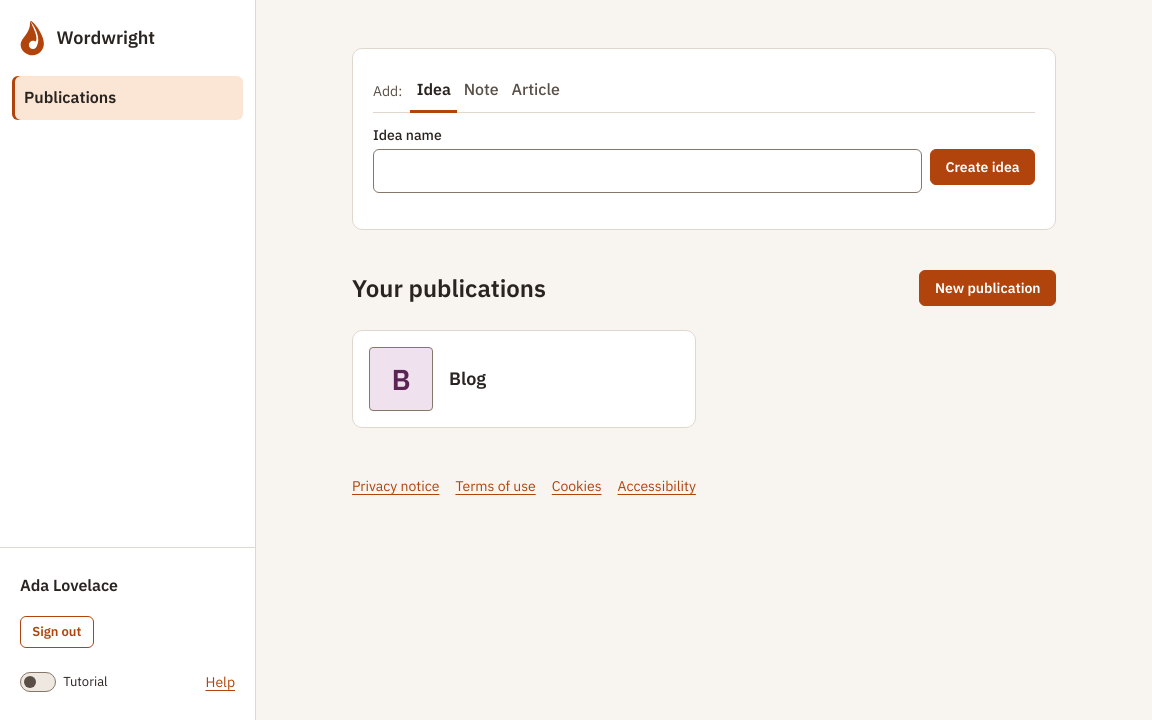
it: Home: Quick add (#192) › adds something to read to the publication’s articles
The width and height of the screenshot is (1152, 720).
Click the tab with aria-label "Add article" at (536, 91), box [505,69,566,113]
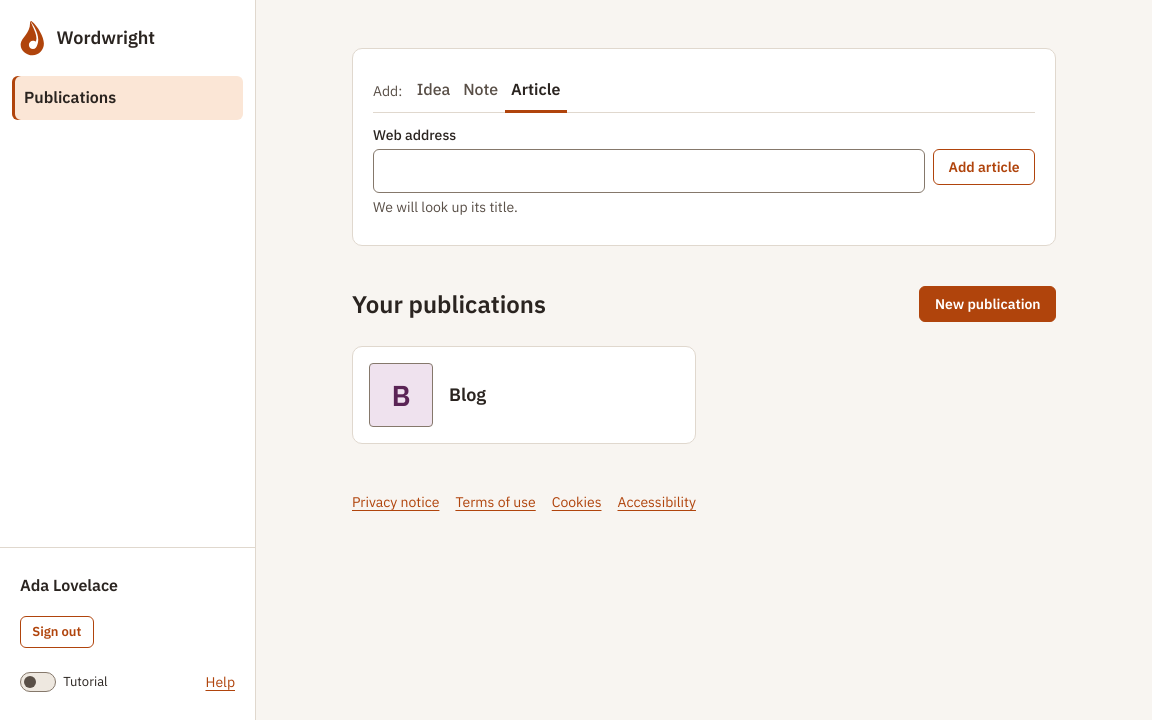
Type "https://example.com/post" into the field labelled "Web address" at (649, 171), box [373,149,925,193]
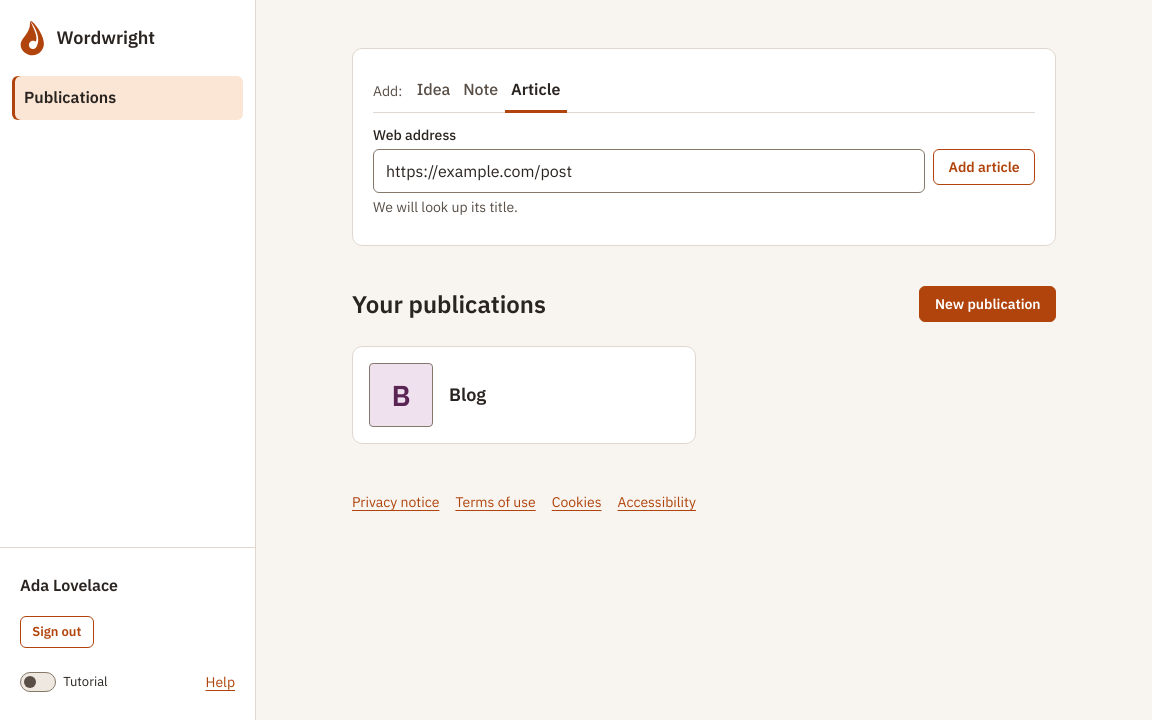
Click the button "Add article" at (984, 167), box [933,149,1035,185]
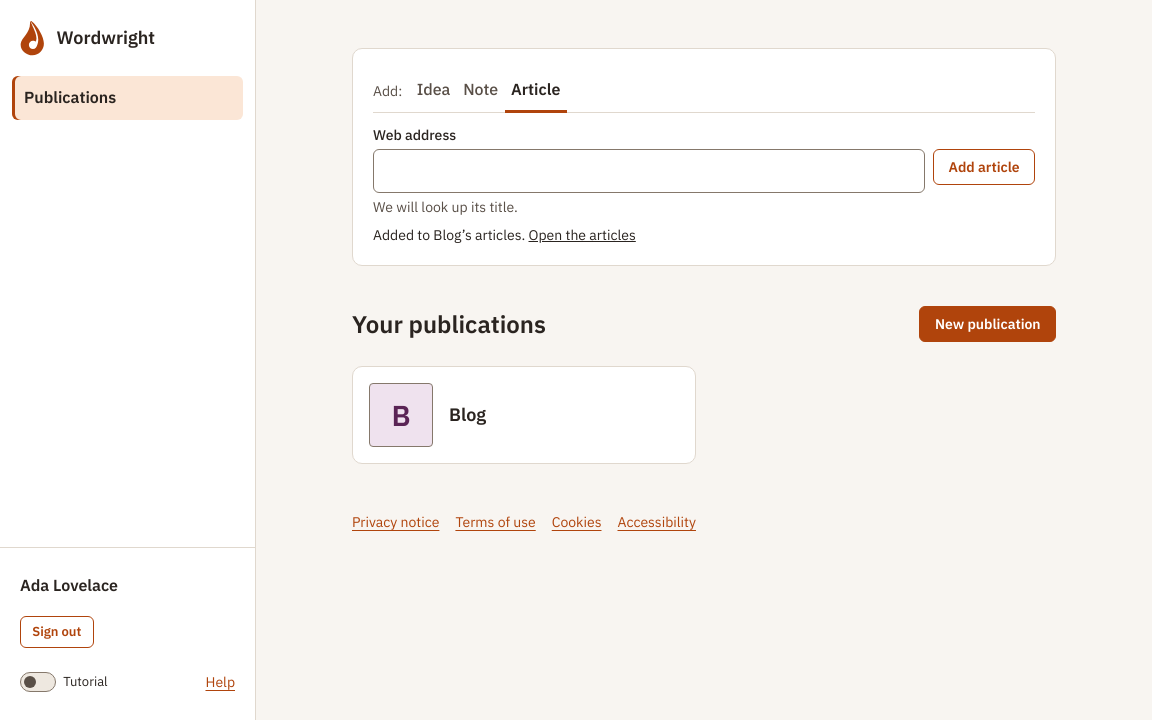
Check: the text "Added to Blog’s articles. Open the articles" is shown, box [373,226,636,244]
